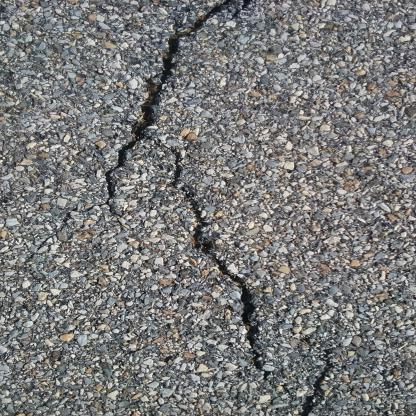Cracks: (102, 0, 257, 211), (160, 150, 273, 372), (289, 343, 354, 416)
